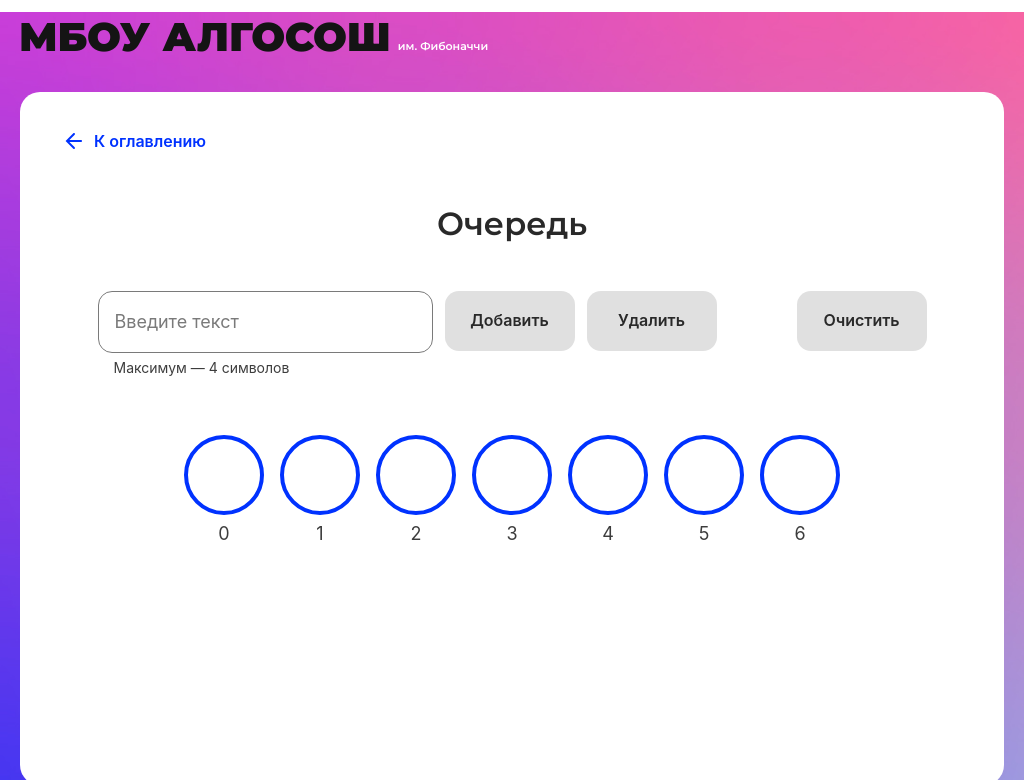
Test: Queue testing › button disabled
Expected: the button with id "add" is disabled, [445,291,575,351]
Expected: the button with id "delete" is disabled, [587,291,717,351]
Step 1. Type "5" into the field with placeholder "Введите текст" → (266, 322), box [98,291,433,353]
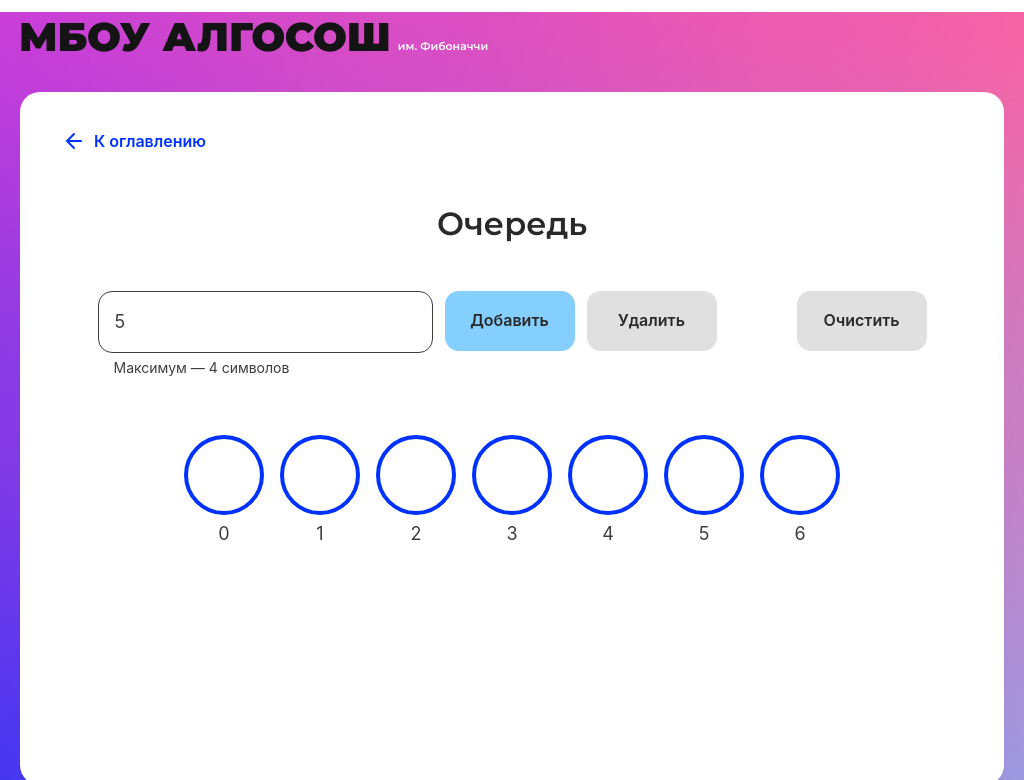
Expected: the element with id "add" is enabled
Step 2. Click the button with id "add" → (510, 321), box [445,291,575,351]
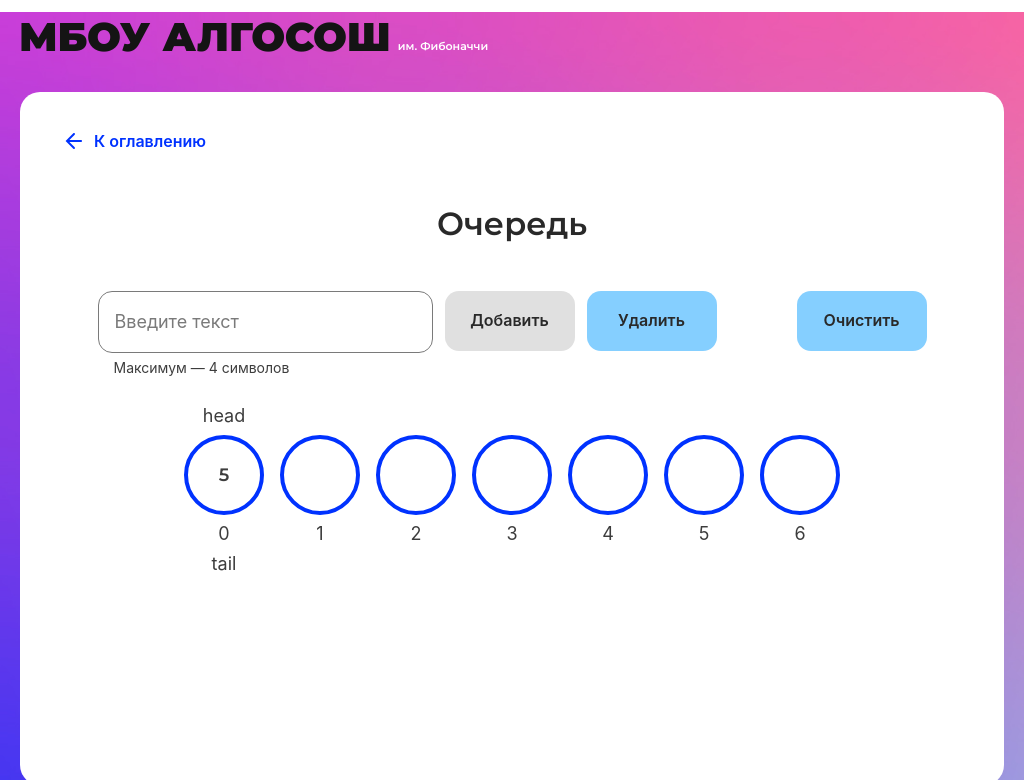
Expected: the element with id "delete" is enabled
Expected: the button with id "add" is disabled, [445,291,575,351]
